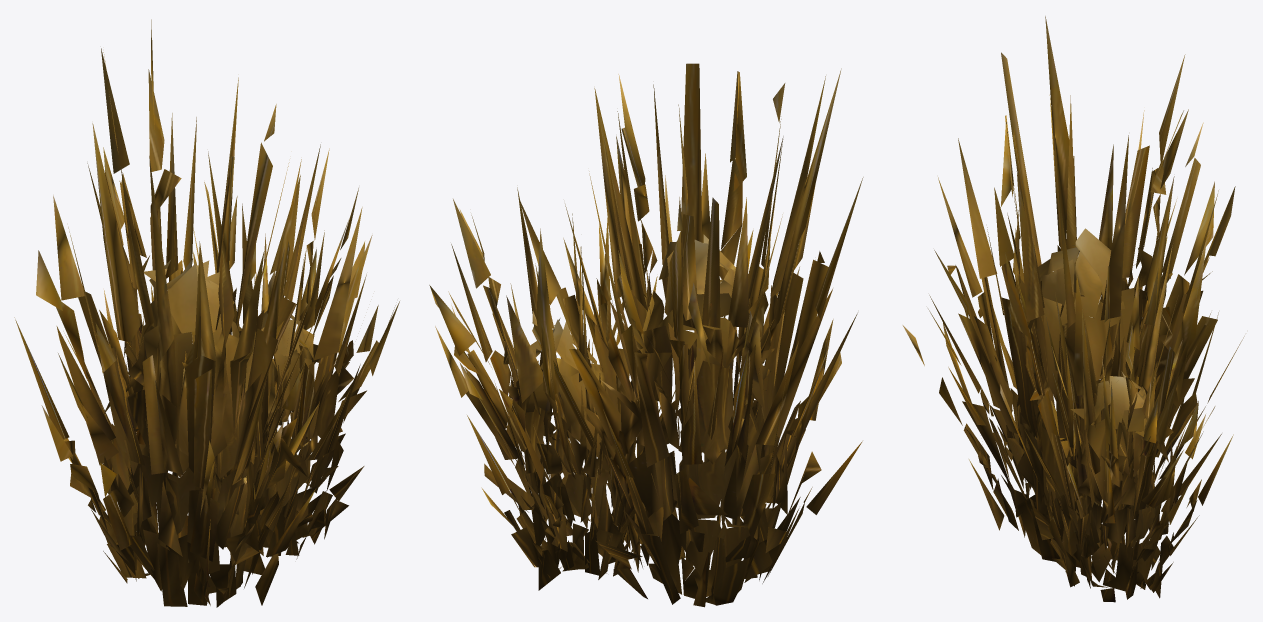
File: desert_grass_blades_pair_lod1.glb
3 renders of one model, left to right at view 1: azimuth 30°, elevation 25°; view 2: azimuth 150°, elevation 25°; view 3: azimuth 270°, elevation 25°, orthographic. The views are drawn at different scales.
Visible parts, largest first — view 1: desert_grass_blades_pair.001; view 2: desert_grass_blades_pair.001; view 3: desert_grass_blades_pair.001.
Part boxes in pixels (x1,y1,x2,y2): desert_grass_blades_pair.001: (14, 19, 399, 607); desert_grass_blades_pair.001: (429, 63, 863, 607); desert_grass_blades_pair.001: (902, 16, 1244, 602).
Size of the model in its own units: 0.7306 by 0.997 by 0.6288.
1 material, 1 textured.
